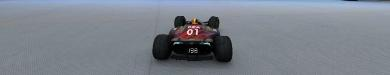Car: (151, 15, 232, 62)
grass: (0, 1, 389, 74)
